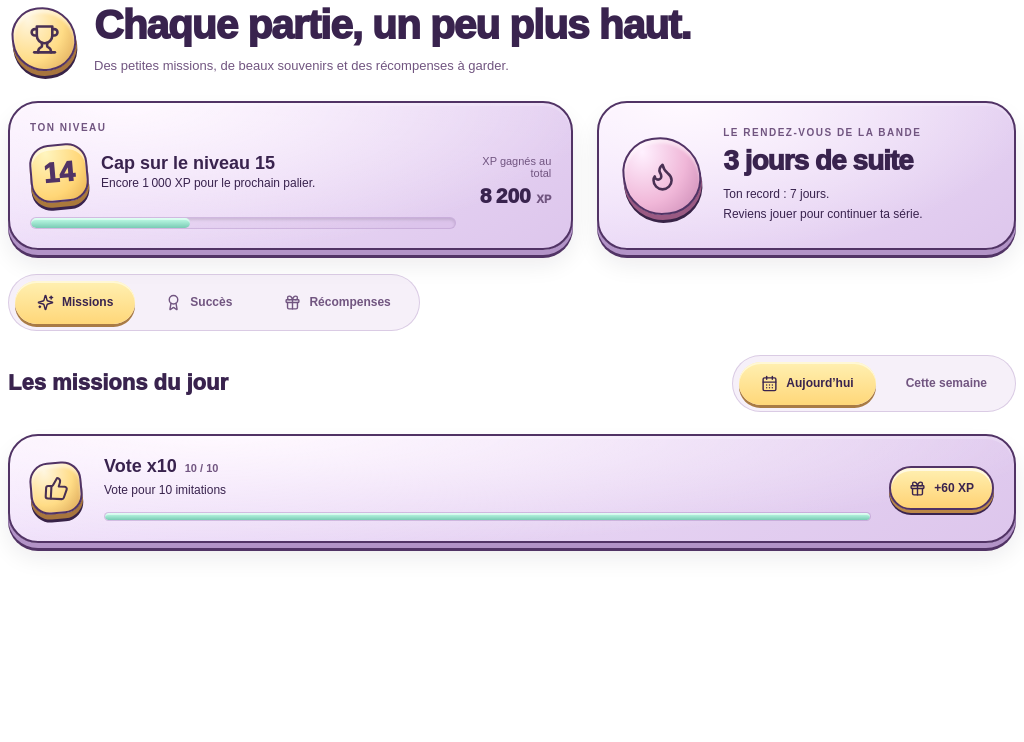
Test: Bubble progression › filters earned and upcoming achievements and rewards
This screenshot has width=1024, height=742.
Click the tab "Succès" at (199, 302), box [143,281,254,324]
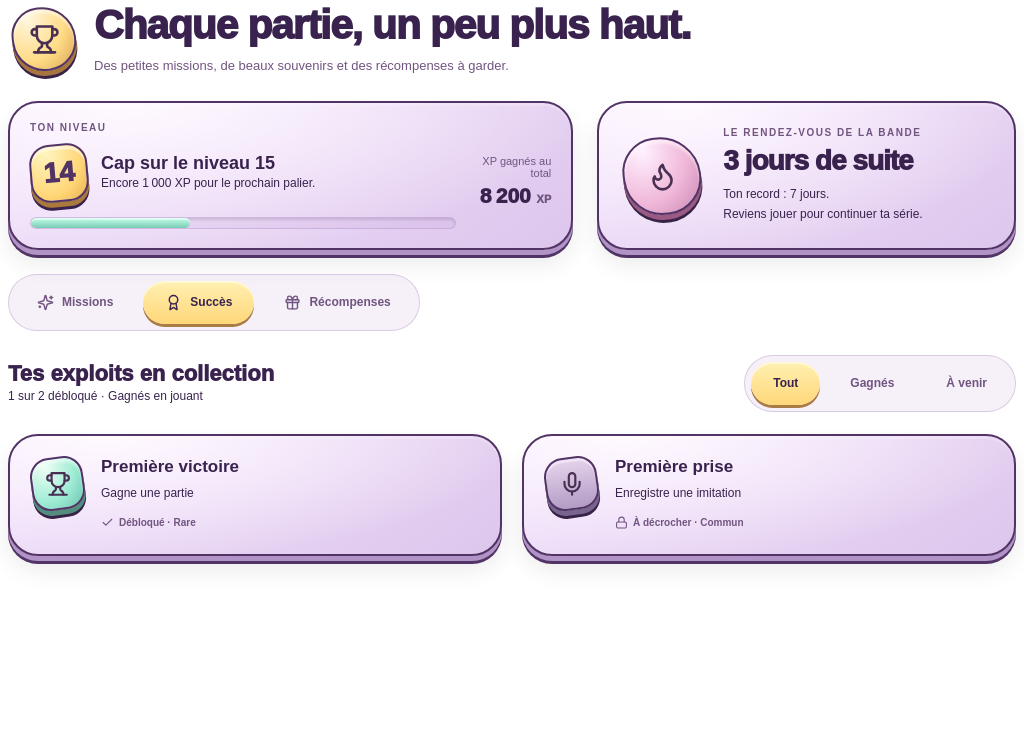
Click the button "Gagnés" at (872, 383), box [828,362,916,405]
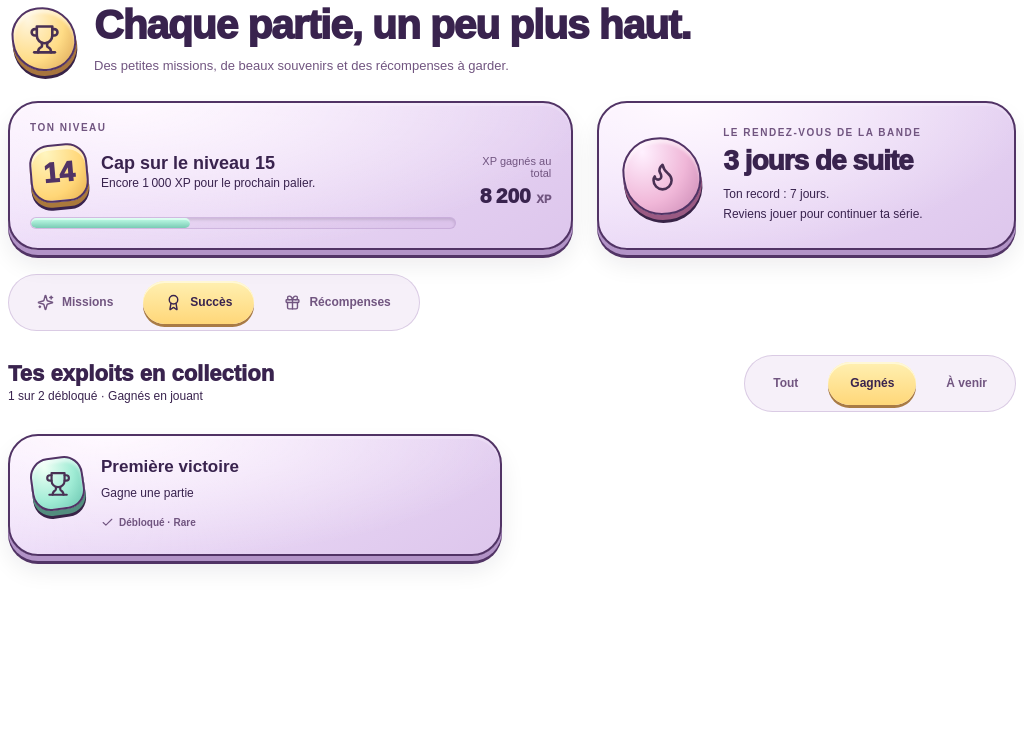
Check: the heading "Première victoire" is shown, box [101,457,239,477]
Check: the heading "Première prise" is gone
Click the tab "Récompenses" at (338, 302), box [262,281,413,324]
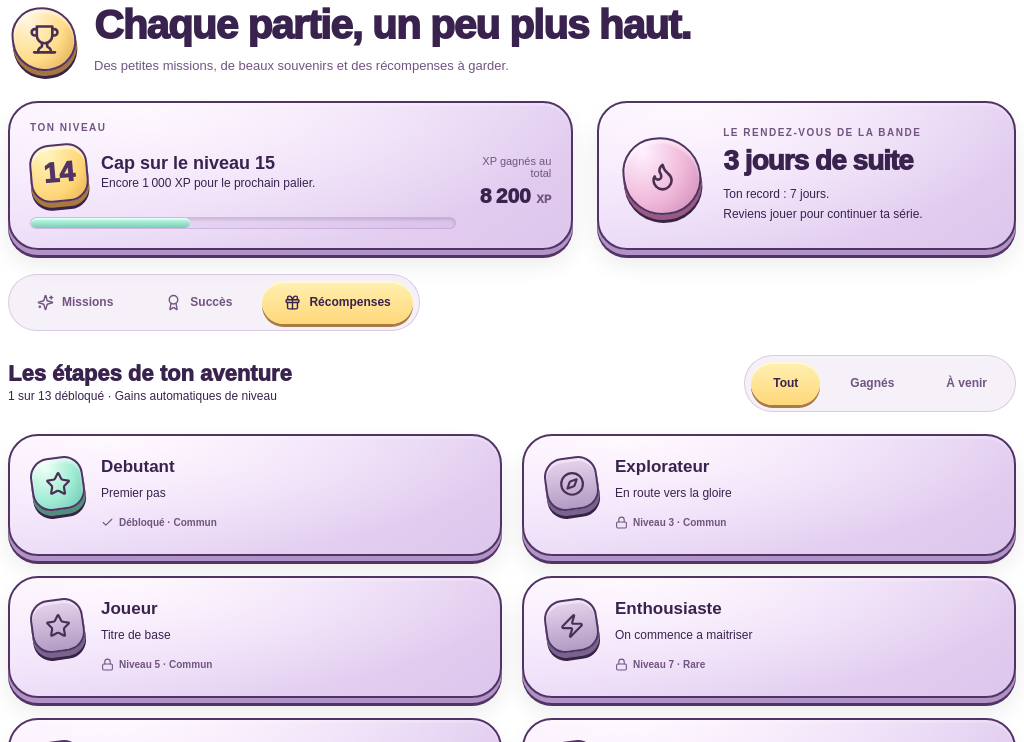
Click the button "À venir" at (967, 383), box [924,362,1009,405]
(page scrolled)
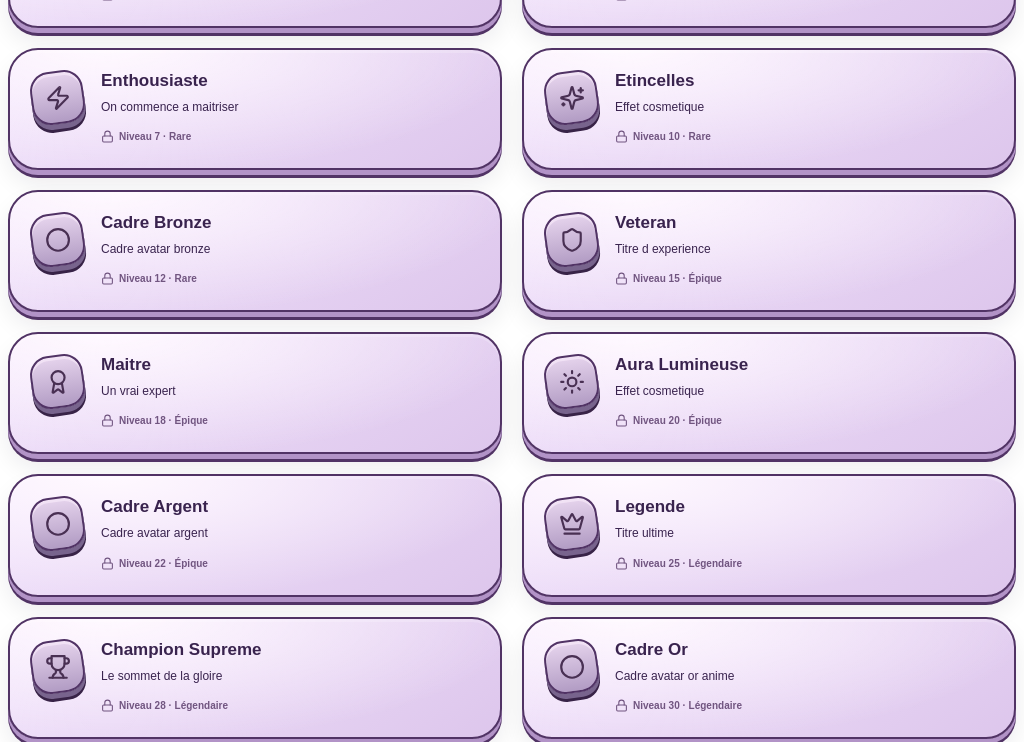
Check: the heading "Cadre Or" is shown, box [615,640,688,659]
Check: the heading "Debutant" is gone
